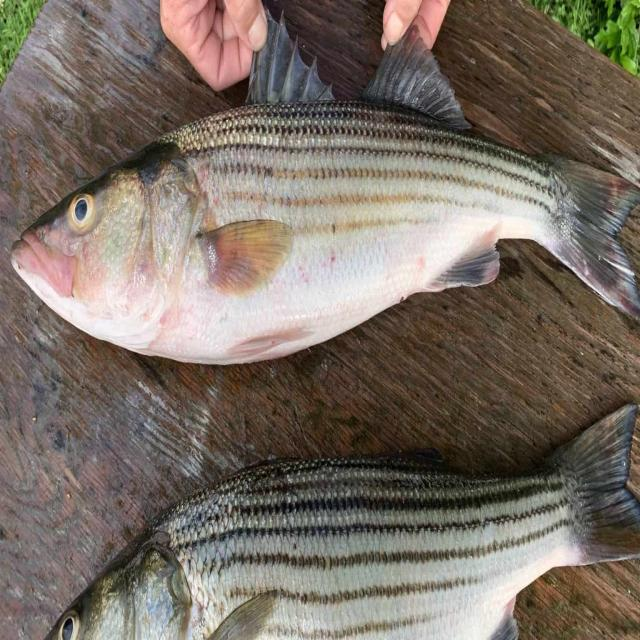Bass - Striped: (12, 101, 640, 363), (48, 405, 640, 639)
